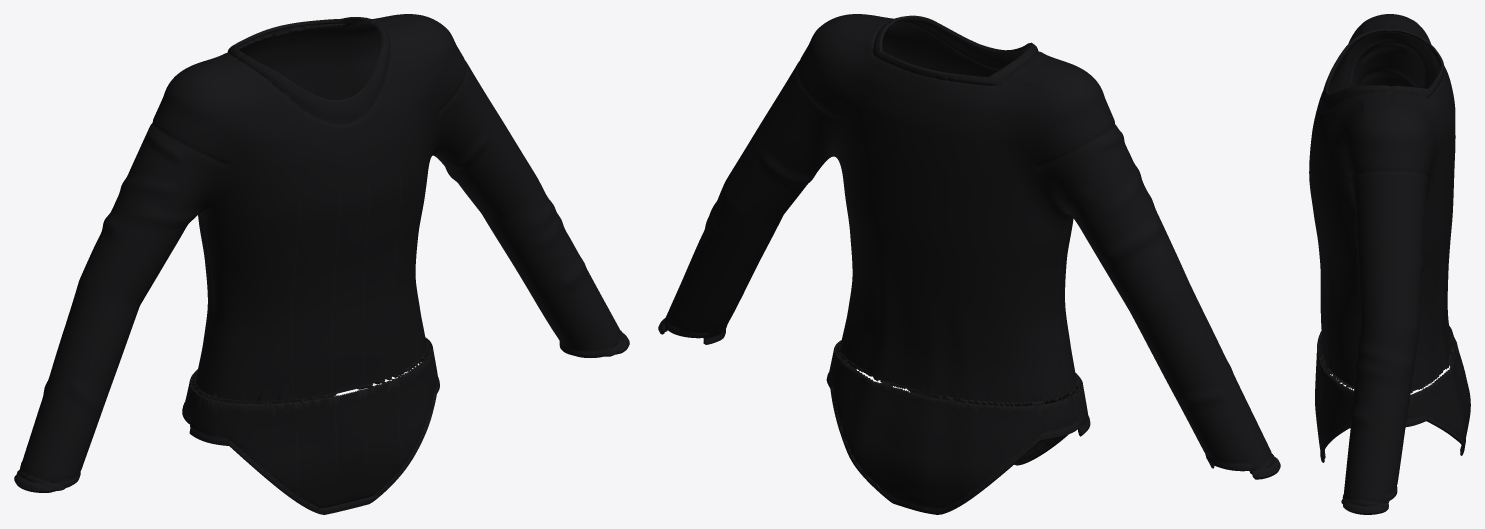
File: 05_body_pbr.glb
The picture shows the model from 3 angles, left to right: view 1: azimuth 30°, elevation 25°; view 2: azimuth 150°, elevation 25°; view 3: azimuth 270°, elevation 25°; orthographic projection. The views are drawn at different scales.
Visible parts, largest first — view 1: Camiseta PBR; view 2: Camiseta PBR; view 3: Camiseta PBR.
Part boxes in pixels (left/top/right/bottom): Camiseta PBR: left=14, top=14, right=629, bottom=514; Camiseta PBR: left=658, top=14, right=1280, bottom=514; Camiseta PBR: left=1309, top=14, right=1470, bottom=514.
Bounding box in the file's own units: 0.9716 × 0.6793 × 0.2513.
1 material, 1 textured.
